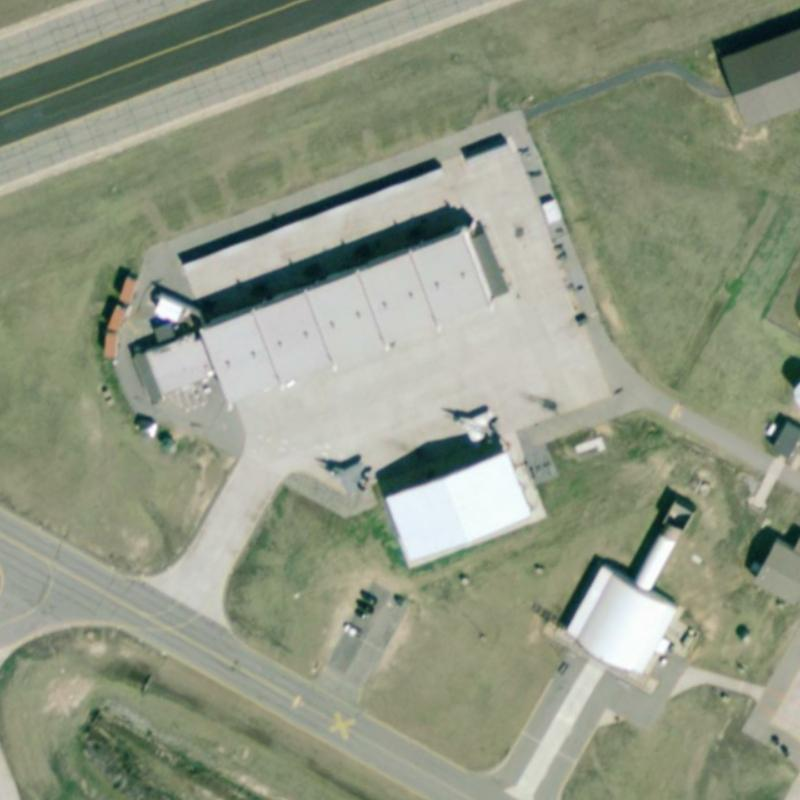A13: (309, 454, 378, 497)
A15: (440, 406, 503, 448)
